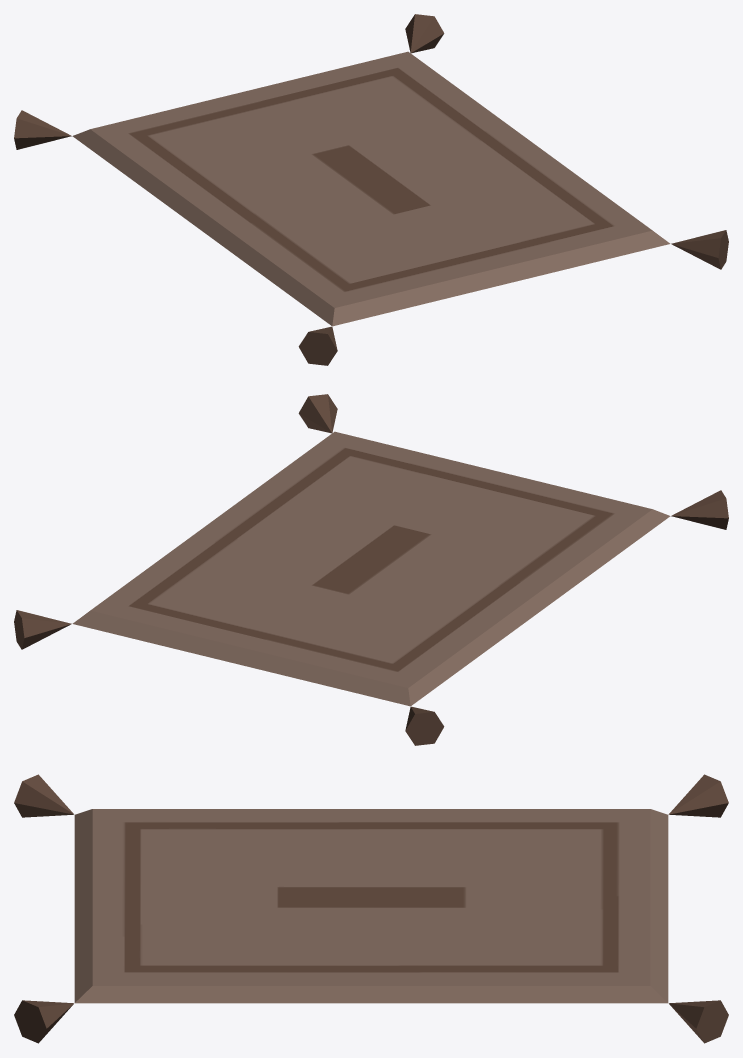
File: tapis.FBX
3 renders of one model, top to bottom at view 1: azimuth 30°, elevation 25°; view 2: azimuth 150°, elevation 25°; view 3: azimuth 270°, elevation 25°, orthographic. The views are drawn at different scales.
Parts seen in each view (by area): view 1: tapis; view 2: tapis; view 3: tapis.
Boxes of the visible parts, x1,y1,x2,y2 form: tapis: (14, 14, 728, 365); tapis: (14, 394, 728, 745); tapis: (14, 774, 728, 1043).
Bounding box in the file's own units: 92.09 × 6.5 × 116.
1 material, 1 textured.
